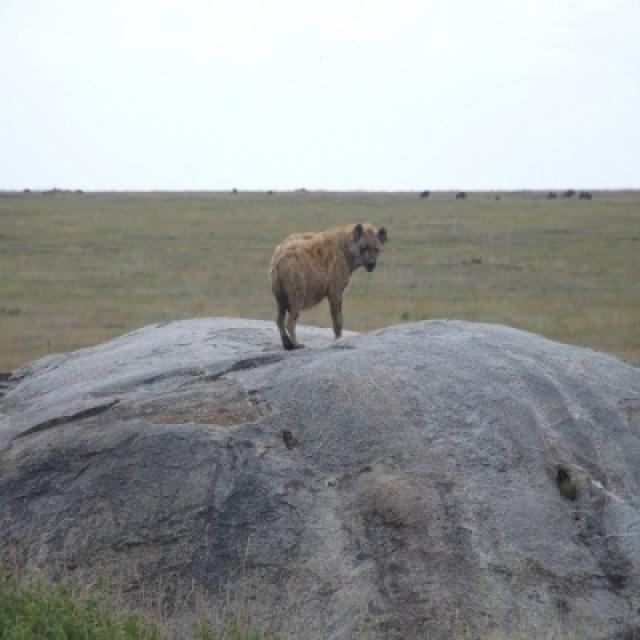hyena: (269, 222, 389, 350)
